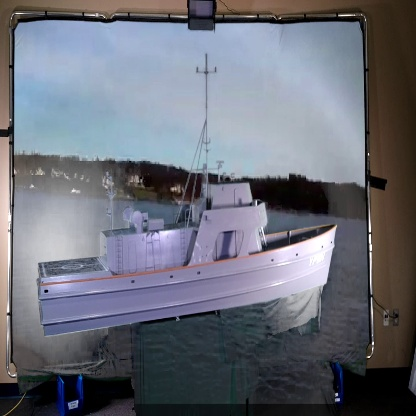YP689: (36, 45, 338, 337)
